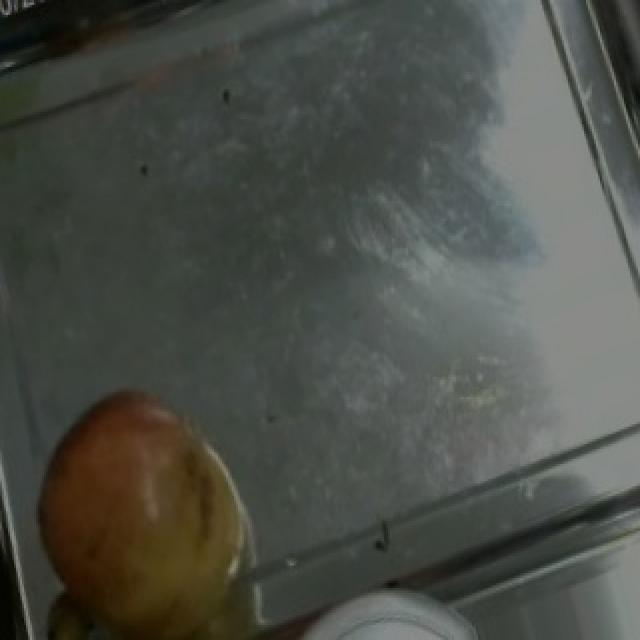fruit: (8, 354, 278, 628)
